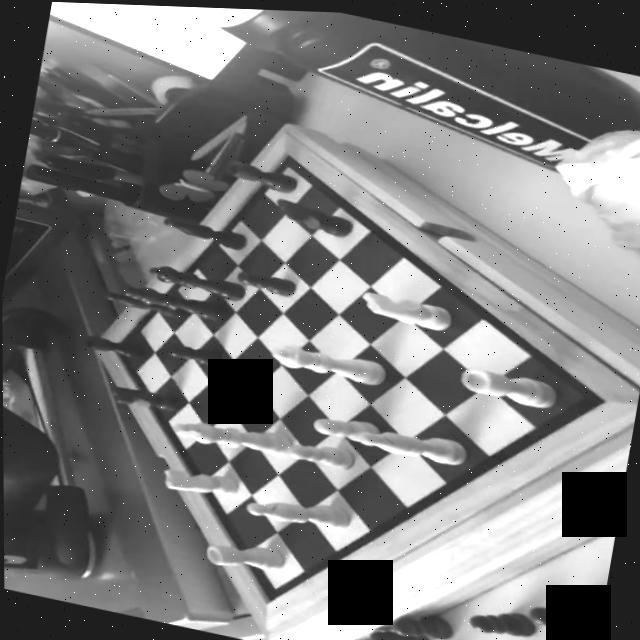chess-table-corners: (248, 575, 284, 611), (582, 381, 618, 412), (275, 145, 302, 165)
